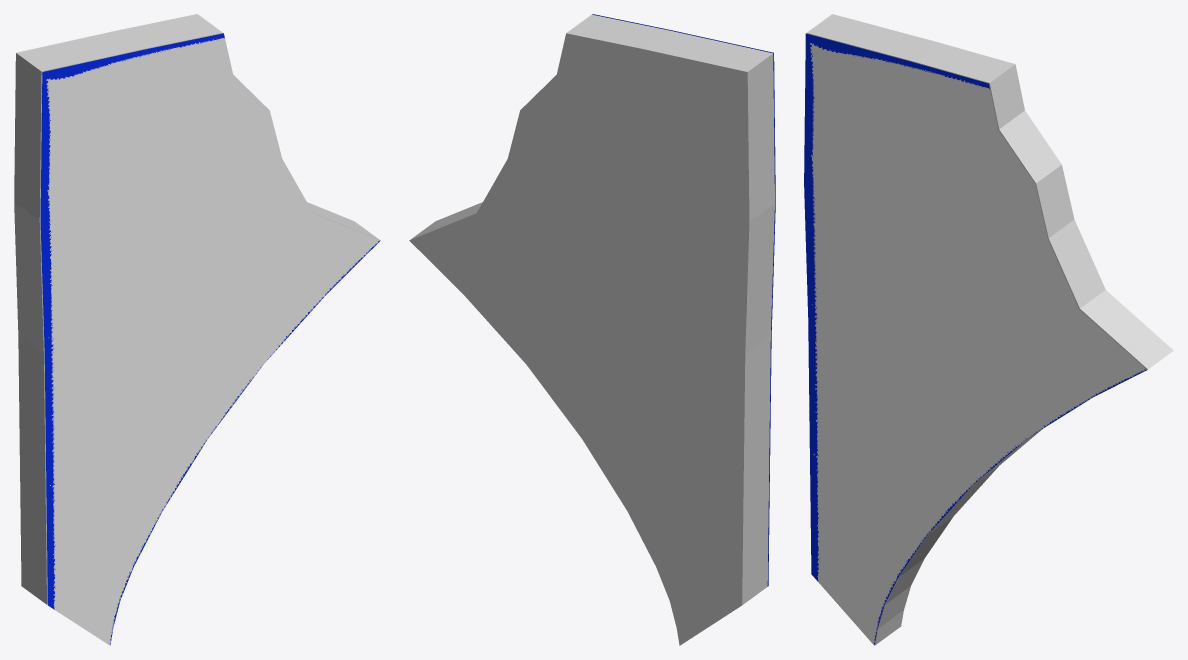
The picture shows the model from 3 angles, left to right: view 1: azimuth 30°, elevation 25°; view 2: azimuth 150°, elevation 25°; view 3: azimuth 330°, elevation 25°; orthographic projection.
Parts seen in each view (by area): view 1: Out_1_1, Out_1_0; view 2: Out_1_0, Out_1_1; view 3: Out_1_1, Out_1_0.
Boxes of the visible parts, box(x1,y1,x2,y2) form: Out_1_1: box(40, 33, 380, 645); Out_1_0: box(14, 14, 379, 605); Out_1_0: box(409, 14, 774, 645); Out_1_1: box(437, 14, 775, 586); Out_1_1: box(804, 33, 1146, 645); Out_1_0: box(806, 14, 1173, 645).
Bounding box in the file's own units: 3.84 × 6.36 × 0.515.
2 materials, 1 textured.
